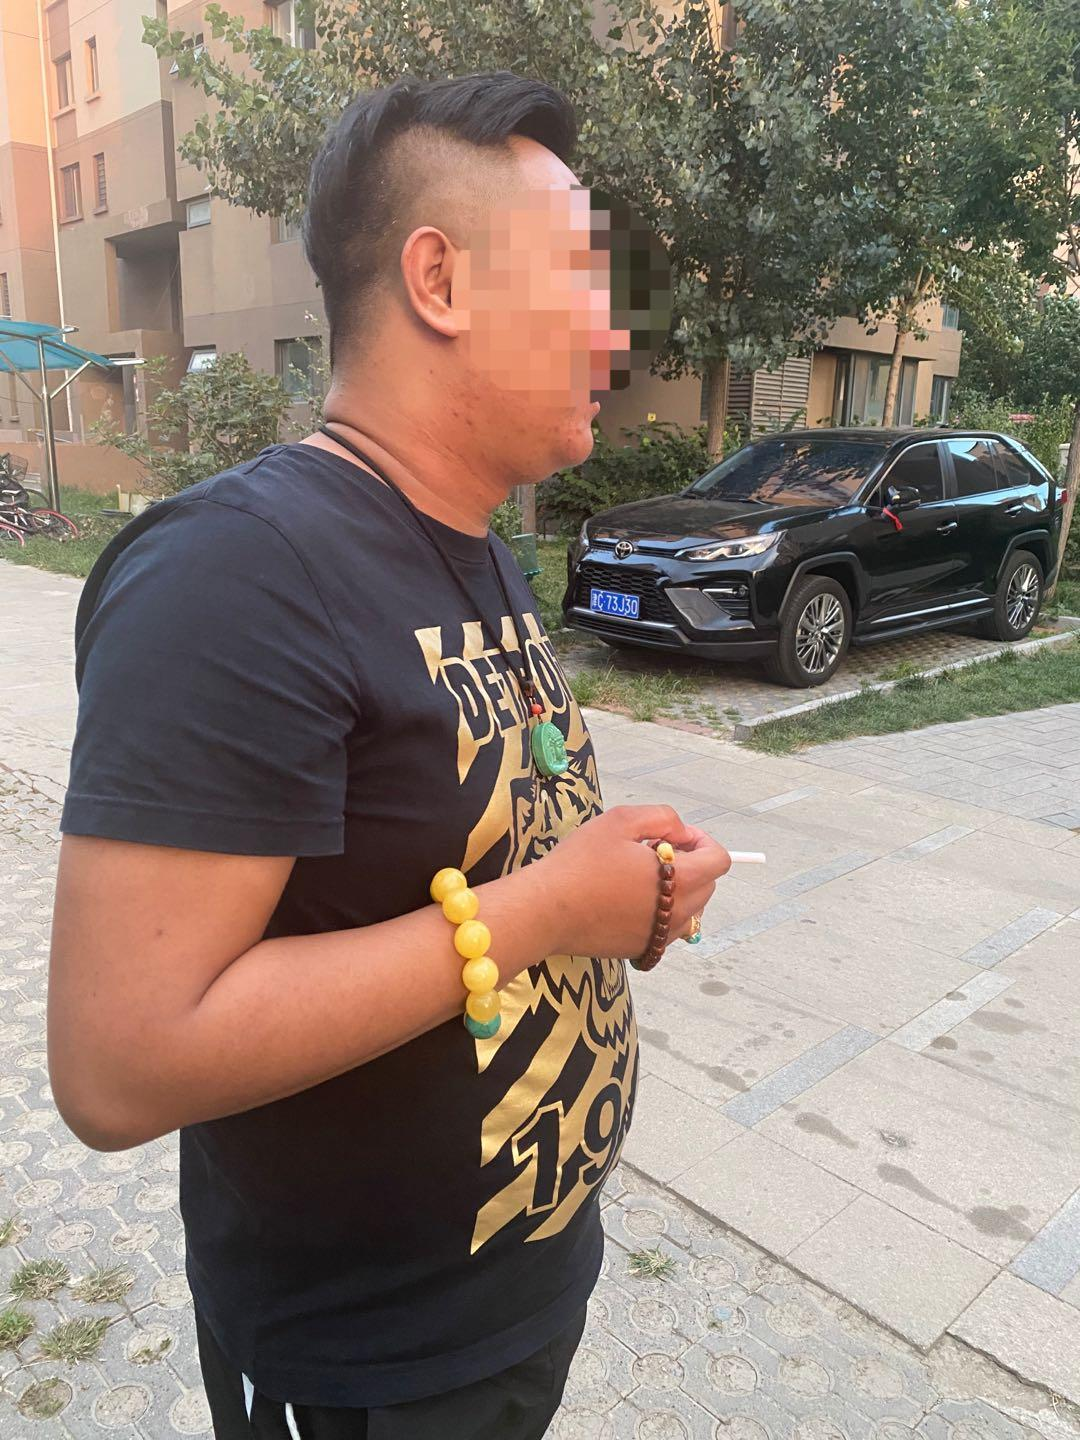smoke: (729, 848, 774, 875)
